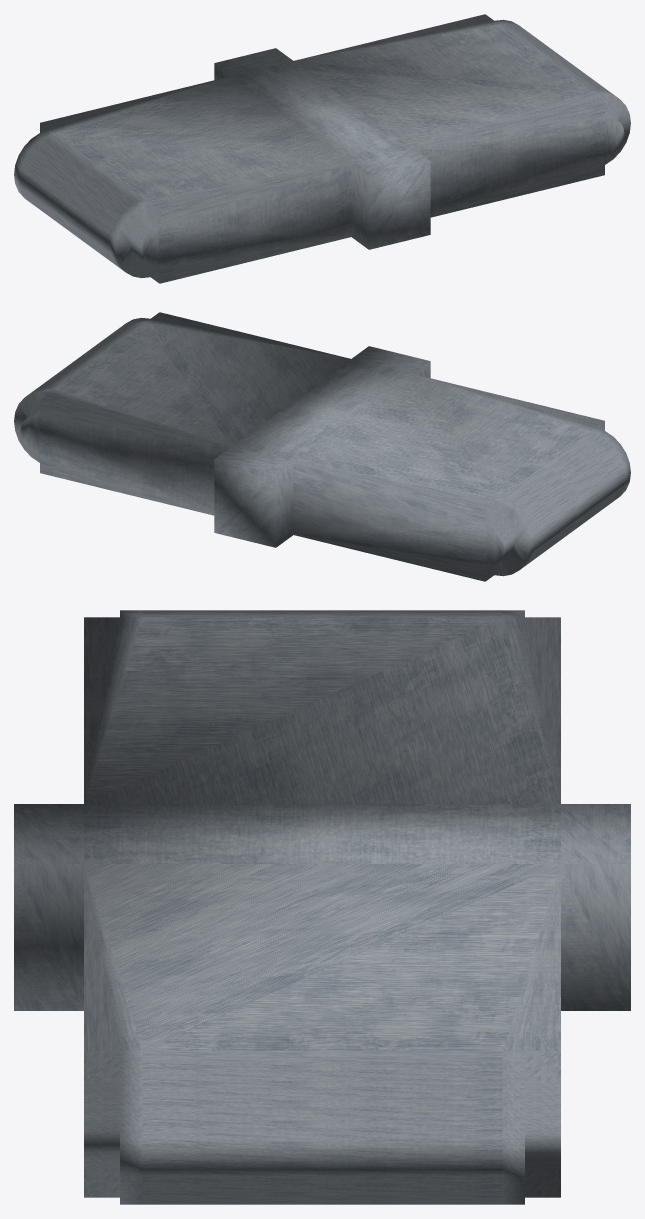
File: rhex_body.dae
The picture shows the model from 3 angles, top to bottom: view 1: azimuth 30°, elevation 25°; view 2: azimuth 150°, elevation 25°; view 3: azimuth 270°, elevation 25°; orthographic projection. The views are drawn at different scales.
Visible parts, largest first — view 1: mesh_body; view 2: mesh_body; view 3: mesh_body.
Boxes of the visible parts, x1,y1,x2,y2 form: mesh_body: (14, 14, 630, 283); mesh_body: (14, 312, 630, 581); mesh_body: (14, 610, 630, 1204).
Bounding box in the file's own units: 0.66 × 0.343 × 0.09.
Materials: 1 (1 with a texture image).
